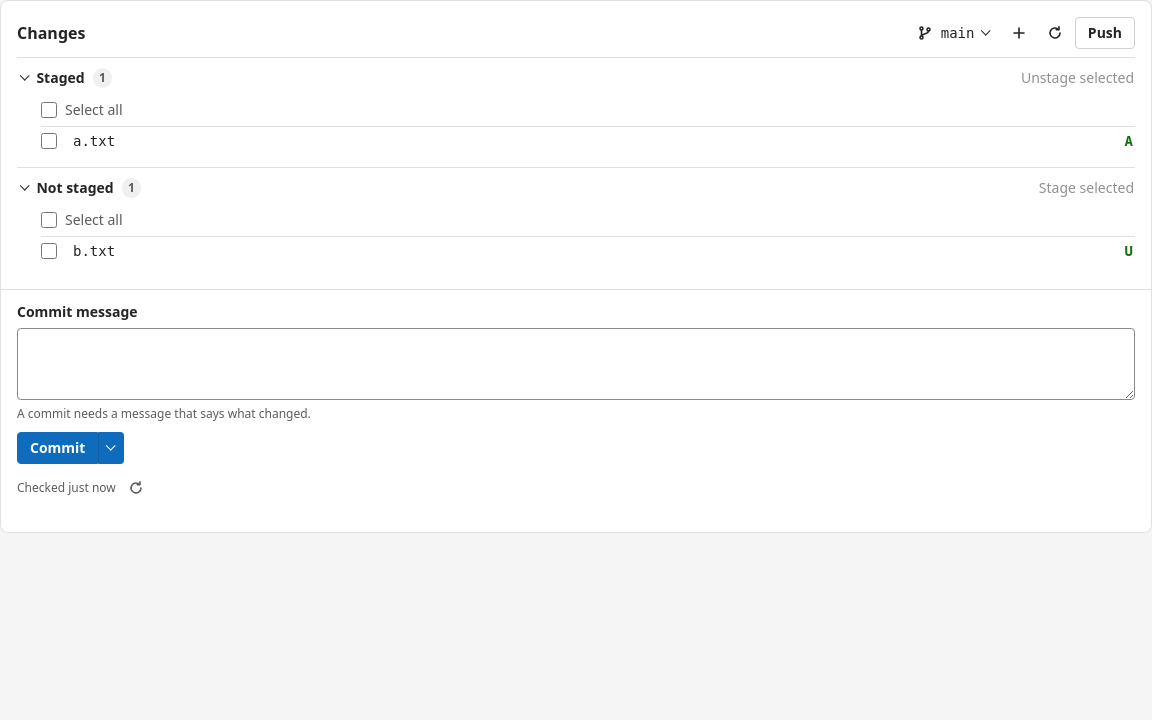
Test case: no input on the branch lookup's filter carries its own validation rule
The width and height of the screenshot is (1152, 720).
Click the button "main" at (953, 33), box [908,17,999,49]
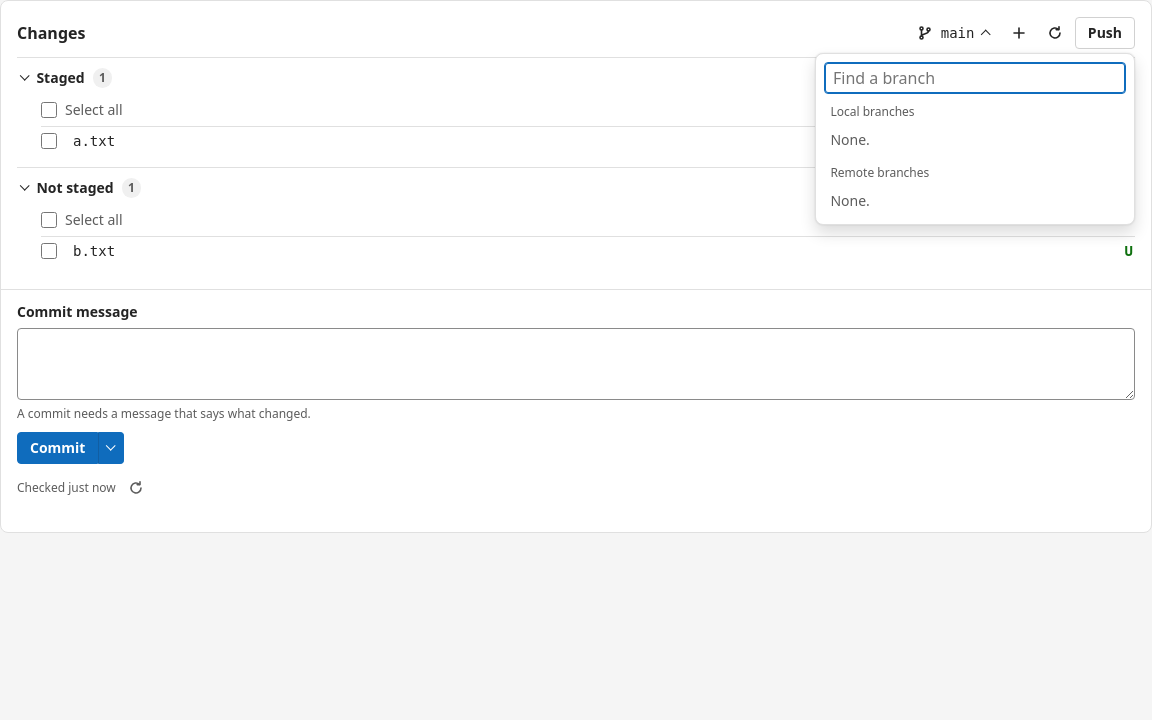
Check: the number of forms is 1, box [17,302,1135,464]
Check: the field labelled "Find a branch" is shown, box [824,62,1126,94]
